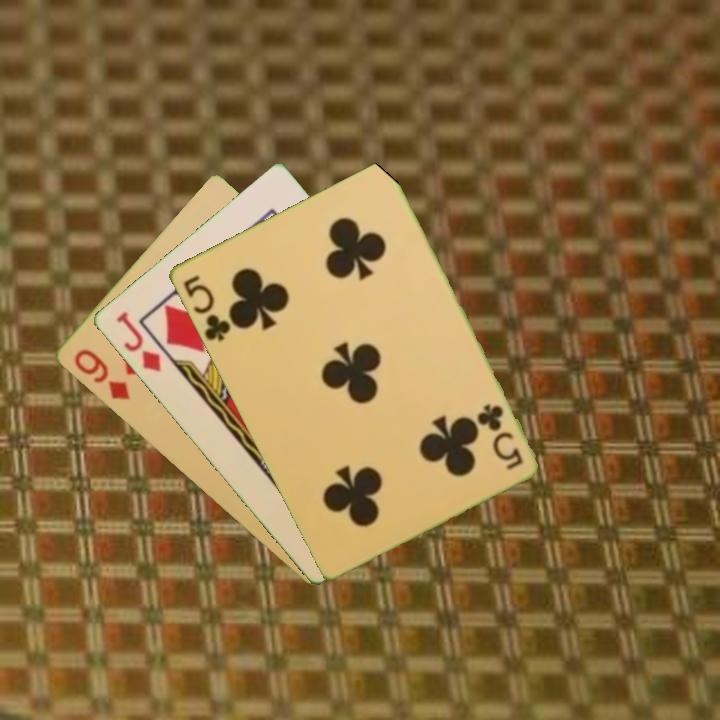5c: (179, 271, 236, 345), (474, 399, 526, 473)
9d: (69, 345, 133, 403)
Jd: (111, 307, 164, 375)
